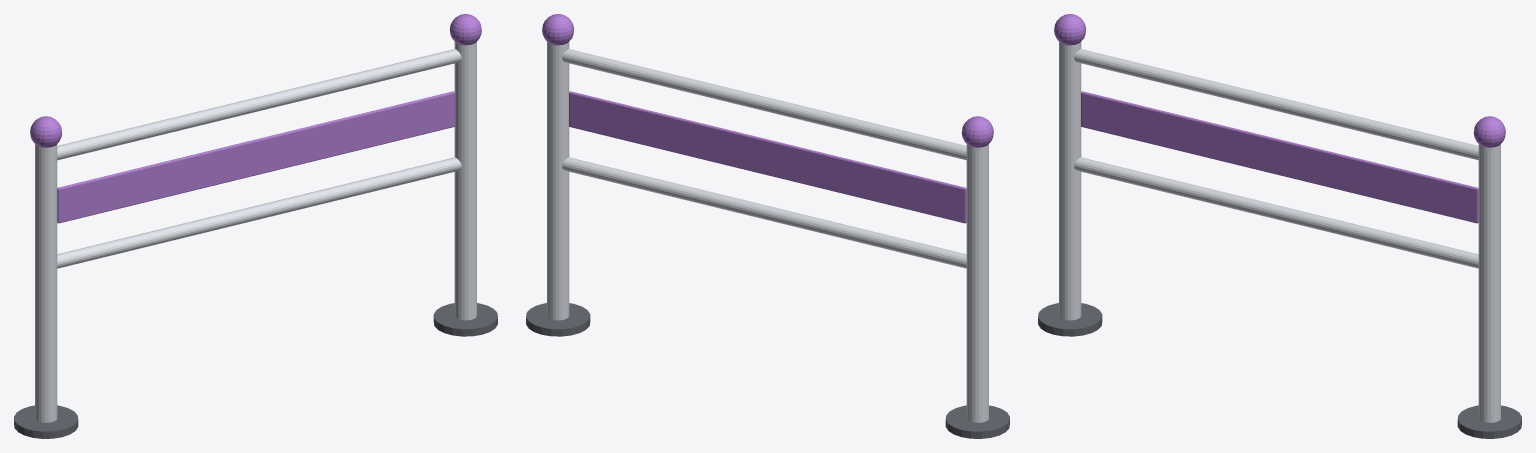
File: QueueRail.fbx
3 renders of one model, left to right at view 1: azimuth 30°, elevation 25°; view 2: azimuth 150°, elevation 25°; view 3: azimuth 330°, elevation 25°, orthographic.
Visible parts, largest first — view 1: Band, PostL, PostR, Rail55, Rail92, BaseR, BaseL, CapL, CapR; view 2: Band, PostL, PostR, Rail55, Rail92, BaseR, BaseL, CapL, CapR; view 3: Band, PostR, PostL, Rail55, Rail92, BaseL, BaseR, CapR, CapL.
Boxes of the visible parts, <box> form: Band: <box>57,91,454,223</box>; PostL: <box>35,144,57,422</box>; PostR: <box>454,42,476,320</box>; Rail55: <box>57,157,461,268</box>; Rail92: <box>57,49,461,160</box>; BaseR: <box>433,303,497,336</box>; BaseL: <box>14,405,78,438</box>; CapL: <box>30,116,62,147</box>; CapR: <box>449,14,481,45</box>; Band: <box>569,91,966,223</box>; PostL: <box>966,144,988,422</box>; PostR: <box>547,42,569,320</box>; Rail55: <box>562,157,966,268</box>; Rail92: <box>562,49,966,160</box>; BaseR: <box>526,303,590,336</box>; BaseL: <box>945,405,1009,438</box>; CapL: <box>961,116,993,147</box>; CapR: <box>542,14,574,45</box>; Band: <box>1081,91,1478,223</box>; PostR: <box>1478,144,1500,422</box>; PostL: <box>1059,42,1081,320</box>; Rail55: <box>1074,157,1478,268</box>; Rail92: <box>1074,49,1478,160</box>; BaseL: <box>1038,303,1102,336</box>; BaseR: <box>1457,405,1521,438</box>; CapR: <box>1473,116,1505,147</box>; CapL: <box>1054,14,1086,45</box>.
Bounding box in the file's own units: 1.7 × 1.05 × 0.2.
